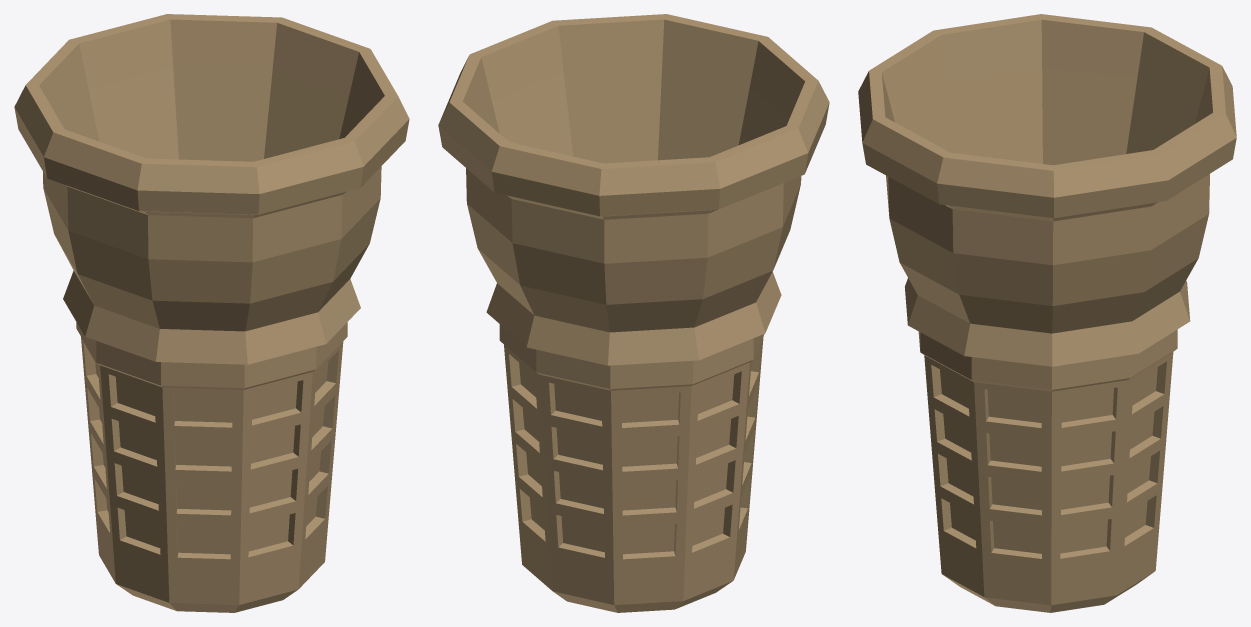
Rendered from IceCream_Cone2.glb.
The picture shows the model from 3 angles, left to right: view 1: azimuth 30°, elevation 25°; view 2: azimuth 150°, elevation 25°; view 3: azimuth 270°, elevation 25°; orthographic projection.
Visible parts, largest first — view 1: IceCream_Cone2; view 2: IceCream_Cone2; view 3: IceCream_Cone2.
Boxes of the visible parts, x1=… form: IceCream_Cone2: x1=14, y1=14, x2=409, y2=612; IceCream_Cone2: x1=438, y1=14, x2=829, y2=612; IceCream_Cone2: x1=858, y1=14, x2=1236, y2=612.
Bounding box in the file's own units: 0.4668 × 0.6297 × 0.4488.
